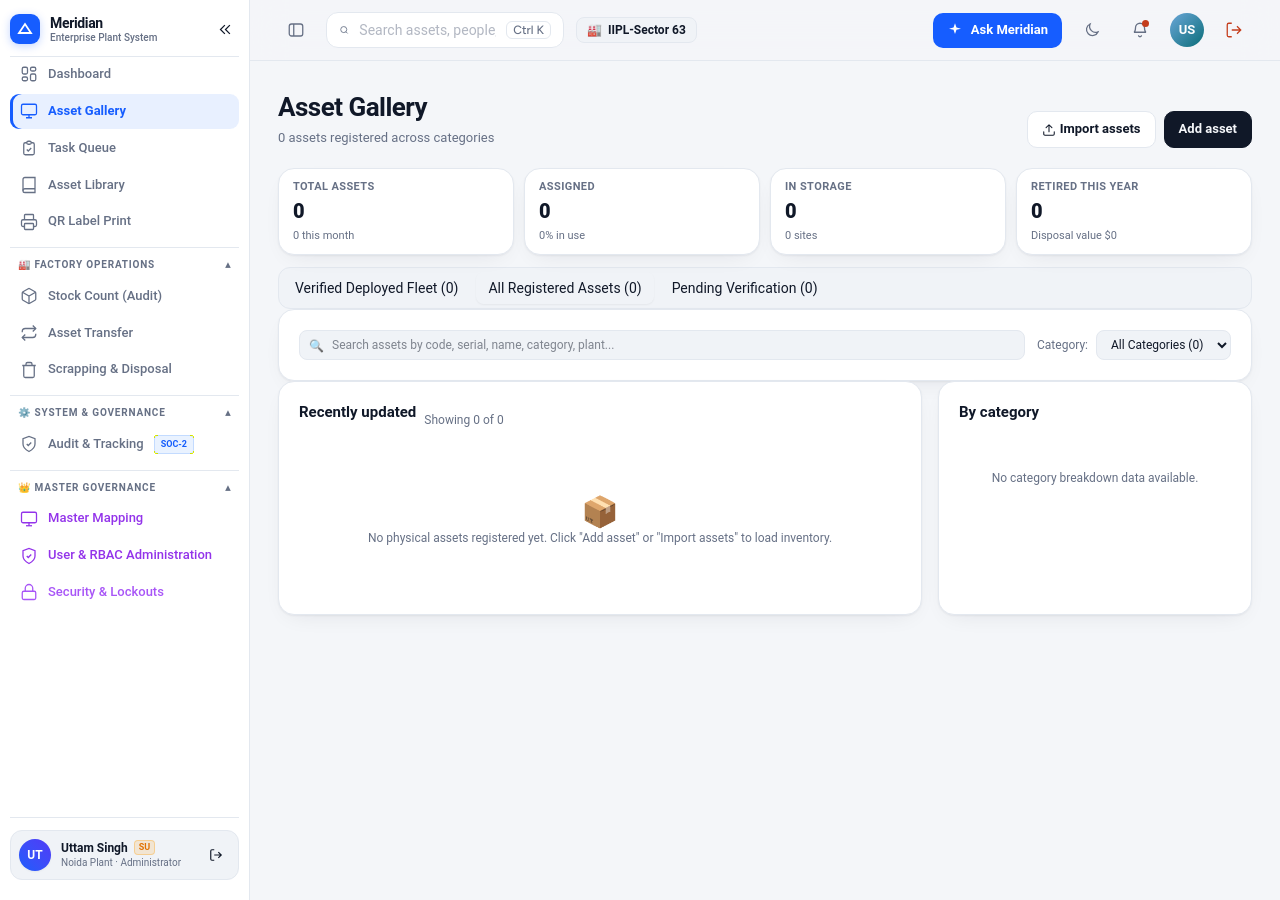
it: Meridian Add Asset Drawer & Asset Library Specification › PART 1: Add Asset side panel opens with exact field groups and supports close actions
Later steps or results of the test are not shown.
# Click "Add asset" button
Click the button "Add asset".
click(1208, 129)  # box left=1164, top=111, right=1252, bottom=148
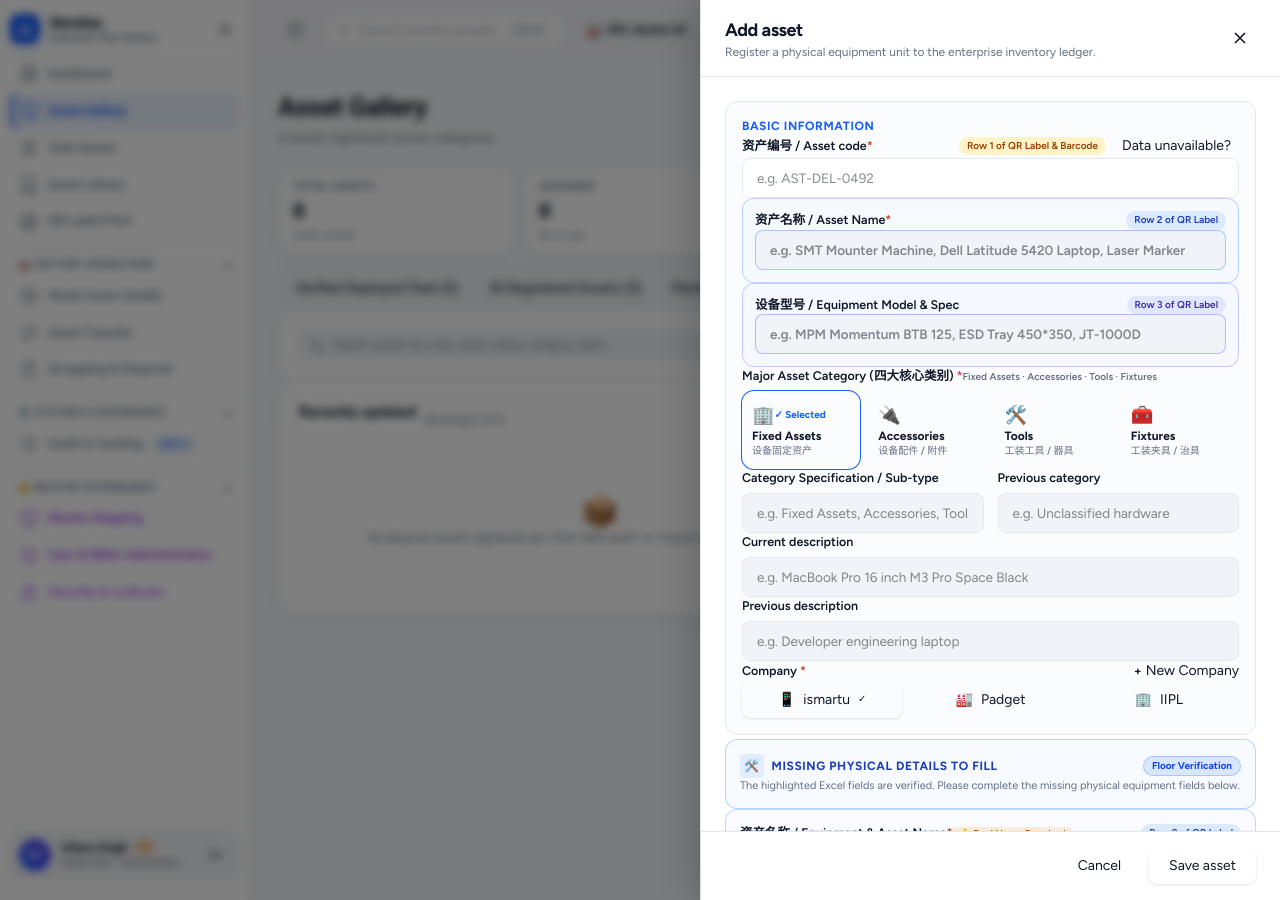
Now the heading "Add asset" is shown, box left=725, top=19, right=803, bottom=41
Now the text "资产编号 / Asset code" is shown, box left=742, top=138, right=867, bottom=153
Now the heading "Basic Information" is shown, box left=742, top=118, right=874, bottom=134
